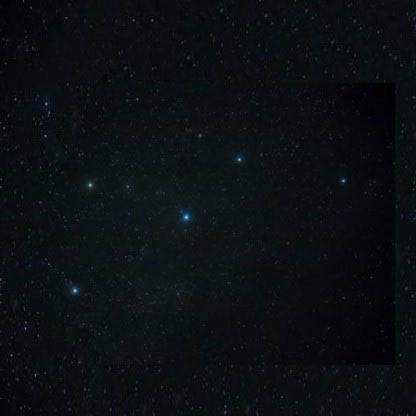Cassiopeia: (79, 171, 137, 205), (56, 274, 91, 302), (173, 203, 197, 239), (326, 171, 356, 192), (225, 149, 251, 173)
